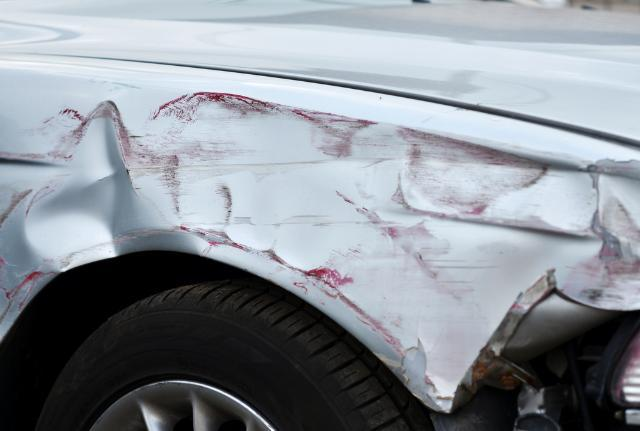dent: (169, 99, 640, 412), (25, 101, 136, 269)
scratch: (115, 89, 275, 257), (0, 110, 88, 335)
